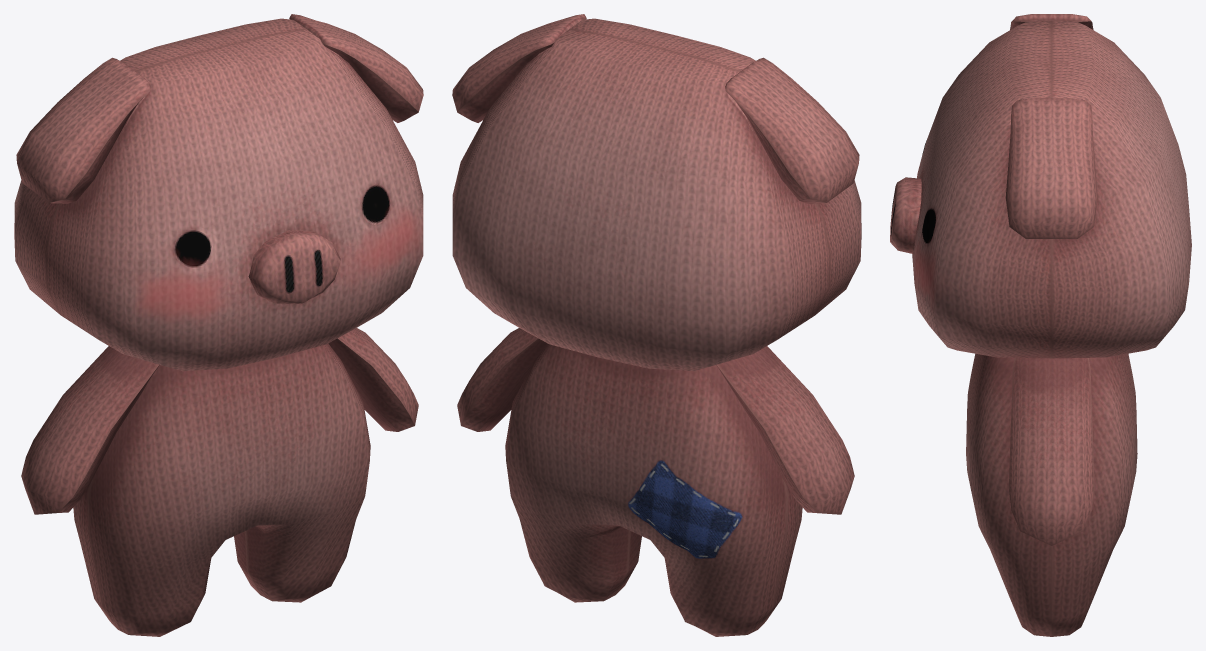
Rendered from pig.glb.
3 renders of one model, left to right at view 1: azimuth 30°, elevation 25°; view 2: azimuth 150°, elevation 25°; view 3: azimuth 270°, elevation 25°, orthographic. The views are drawn at different scales.
Parts seen in each view (by area): view 1: SM_Pig; view 2: SM_Pig; view 3: SM_Pig.
Part boxes in pixels (left/top/right/bottom): SM_Pig: left=14, top=14, right=423, bottom=636; SM_Pig: left=452, top=14, right=861, bottom=636; SM_Pig: left=890, top=14, right=1191, bottom=636.
Size of the model in its own units: 18.69 by 26.5 by 13.4.
Materials: 1 (1 with a texture image).
